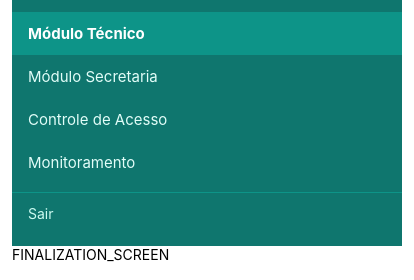
Test: SuperusuarioHomeScreen › renders AccessControlScreen after selecting Controle de Acesso
The width and height of the screenshot is (414, 280).
Step 1. Click the button "Controle de Acesso" → (98, 120), box [12, 98, 402, 141]
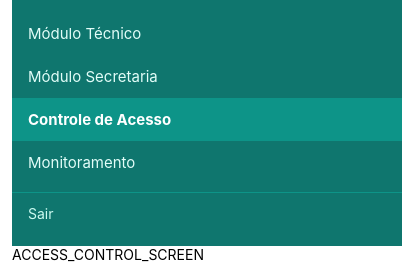
Expected: the text "ACCESS_CONTROL_SCREEN" is shown, [12, 246, 204, 263]
